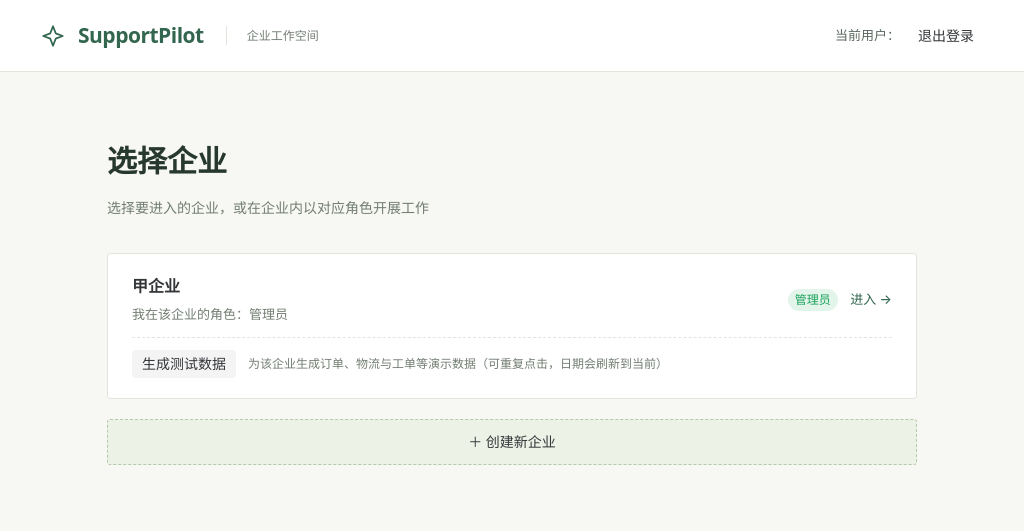
Test case: 企业选择页 › 重复生成（新增为 0）：如实说明数据已存在，不假装新增
The width and height of the screenshot is (1024, 531).
Click the button with test id "generate-demo-data": coordinates (184, 364) [132,350,236,378]
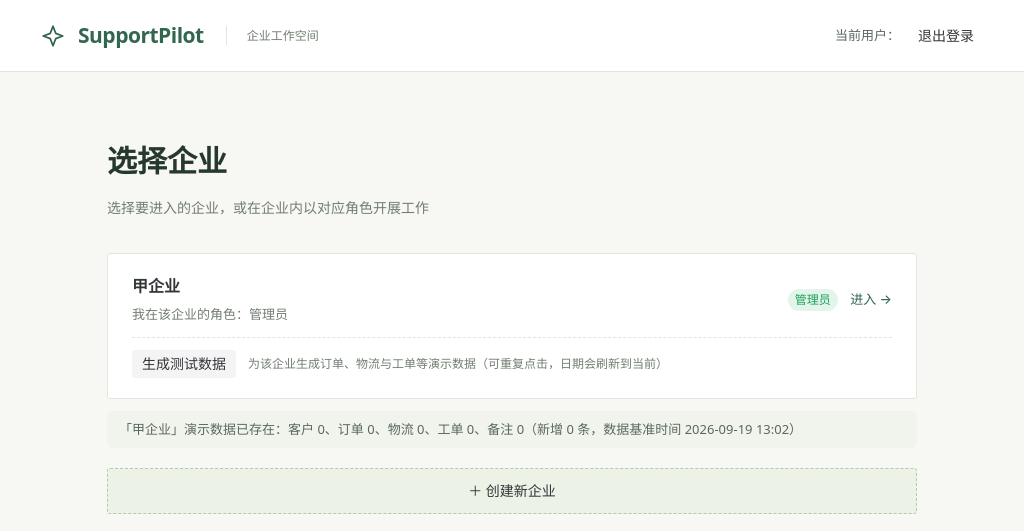
Expected: the text with test id "demo-data-summary" shows "演示数据已存在", [119,420,802,438]
Expected: the text with test id "demo-data-summary" shows "新增 0 条", [119,420,802,438]
